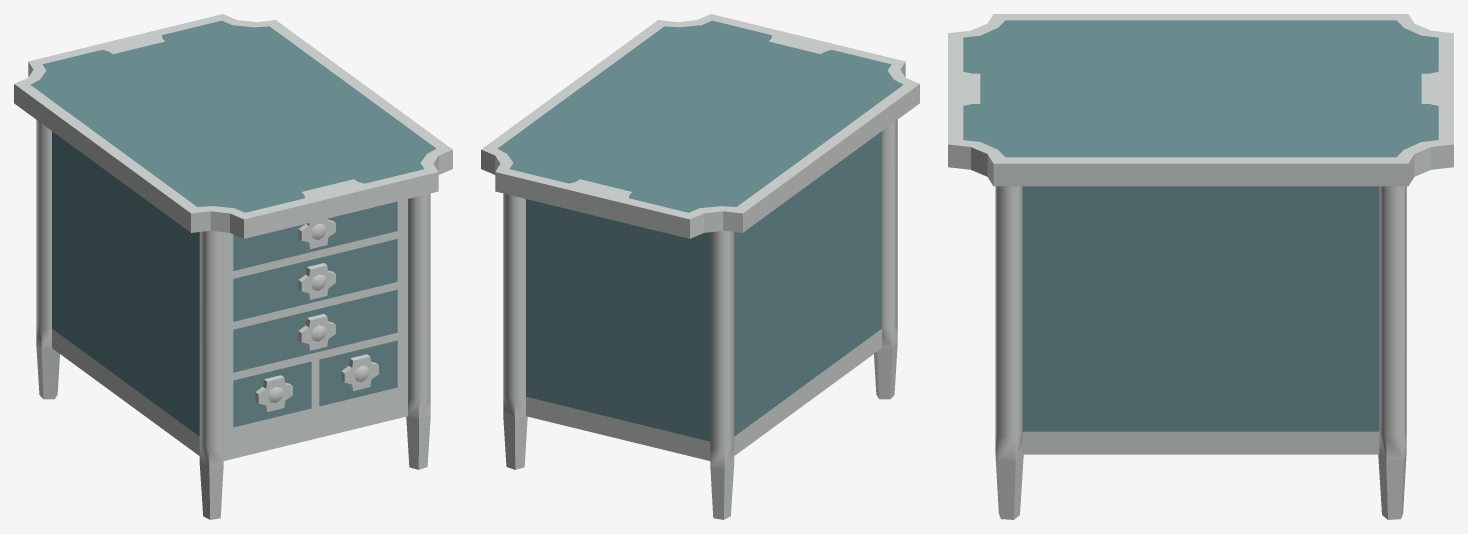
3 views of the same model, side by side, from view 1: azimuth 30°, elevation 25°; view 2: azimuth 150°, elevation 25°; view 3: azimuth 270°, elevation 25° (orthographic). The views are drawn at different scales.
Visible parts, largest first — view 1: G:\FFXIV-MapTools\exports\s1f3\bg\ffxiv\sea_s1\fld\s1f3\bgpa (×3); view 2: G:\FFXIV-MapTools\exports\s1f3\bg\ffxiv\sea_s1\fld\s1f3\bgpa (×3); view 3: G:\FFXIV-MapTools\exports\s1f3\bg\ffxiv\sea_s1\fld\s1f3\bgpa (×3).
Boxes of the visible parts, left/top/right/bottom form: G:\FFXIV-MapTools\exports\s1f3\bg\ffxiv\sea_s1\fld\s1f3\bgpa (×3): left=14, top=14, right=452, bottom=519; G:\FFXIV-MapTools\exports\s1f3\bg\ffxiv\sea_s1\fld\s1f3\bgpa (×3): left=481, top=14, right=919, bottom=519; G:\FFXIV-MapTools\exports\s1f3\bg\ffxiv\sea_s1\fld\s1f3\bgpa (×3): left=948, top=14, right=1453, bottom=519.
Bounding box in the file's own units: 0.7002 × 0.8032 × 1.
